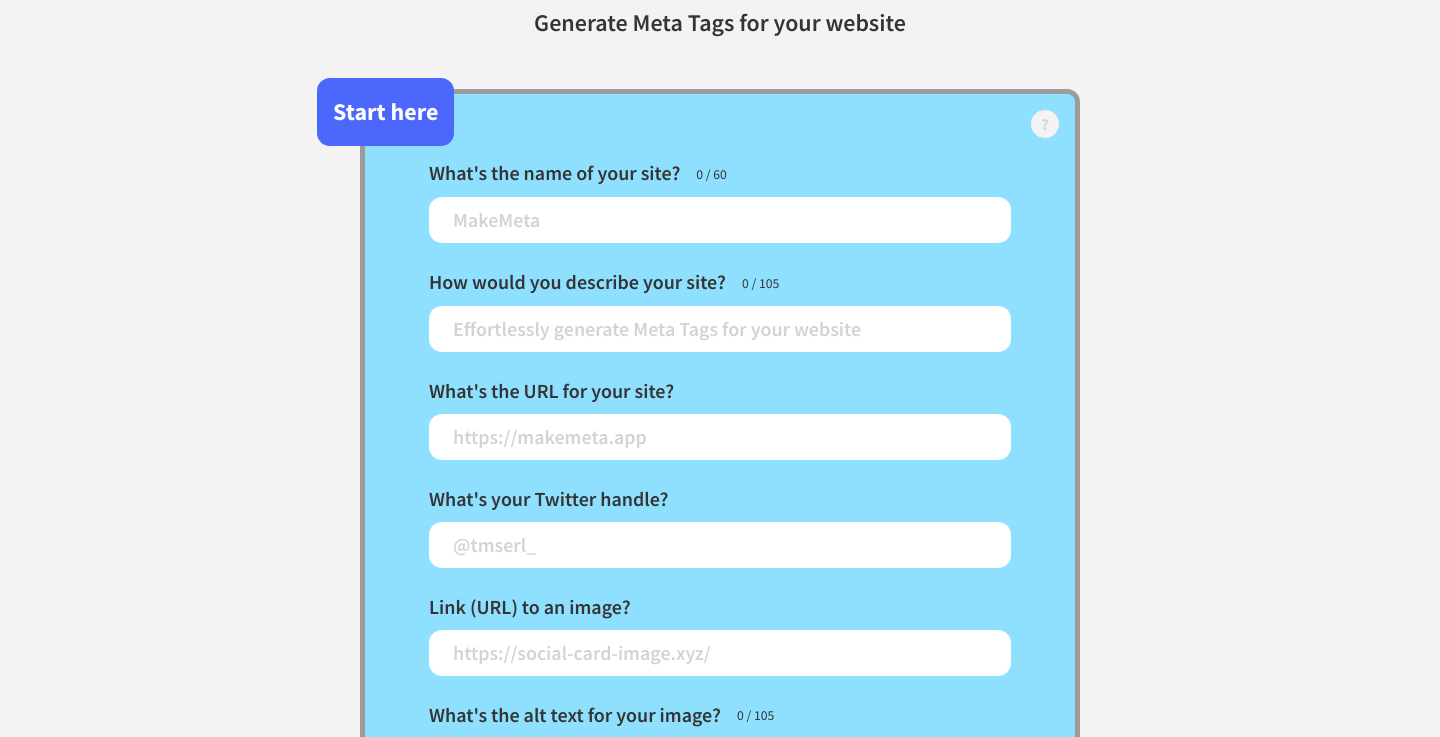
Scenario: App Input to Output › renders prints appropriate output when text is inputted into "How would you describe your site?"
Type "Effortlessly generate meta tags for your site!" into the field with placeholder "Effortlessly generate Meta Tags for your website". click: coordinates (720, 329)
box: left=429, top=306, right=1011, bottom=352
(page scrolled)
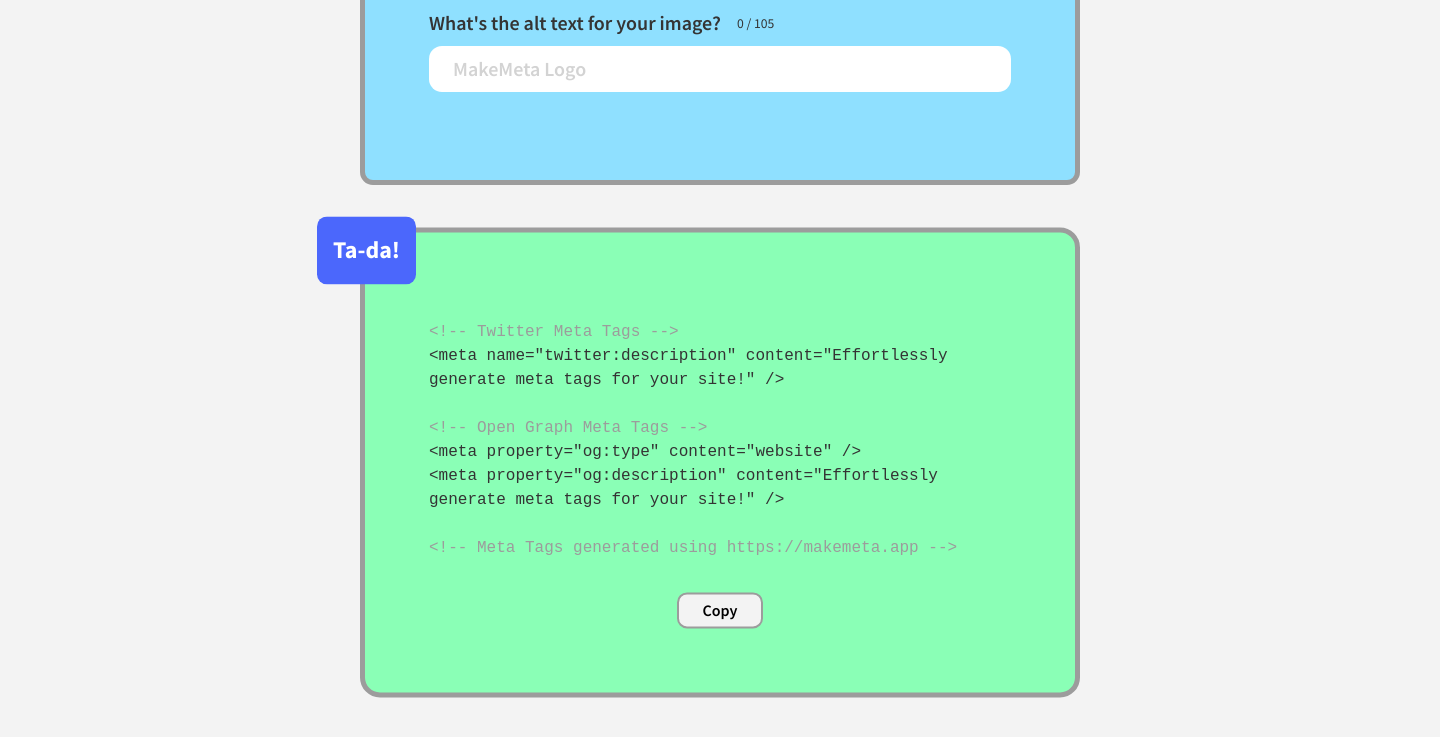
Check: the text "<meta name=\"twitter:description\" content=\"Effortlessly generate meta tags for your site!\" />" is shown, box left=429, top=348, right=948, bottom=390
